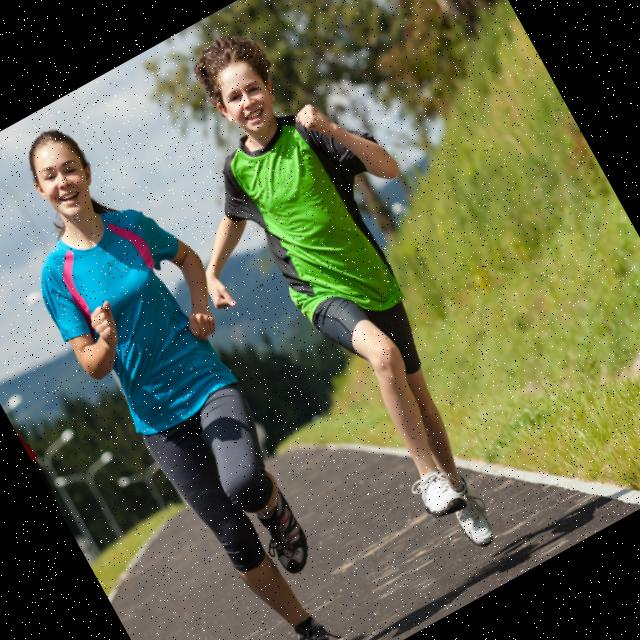Person: (103, 0, 582, 607), (0, 95, 403, 640)
